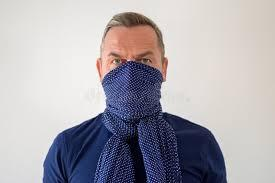scarf-kerchief: (101, 60, 174, 166)
